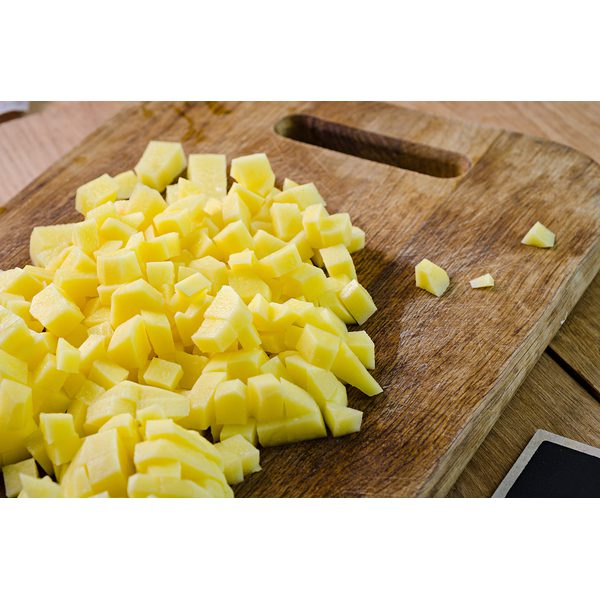boiled potatoes: (17, 150, 390, 501)
